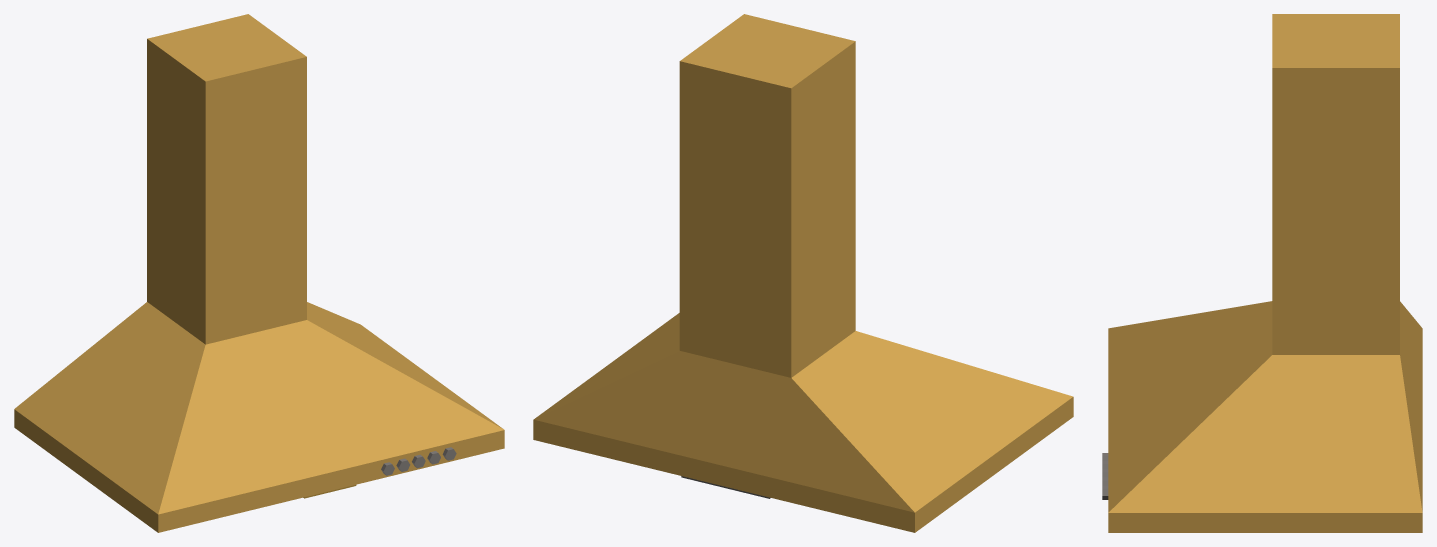
The model's file is kitchen_hood_01_D.gltf.
3 renders of one model, left to right at view 1: azimuth 30°, elevation 25°; view 2: azimuth 150°, elevation 25°; view 3: azimuth 270°, elevation 25°, orthographic. The views are drawn at different scales.
Visible parts, largest first — view 1: kitchen_hood_01_D; view 2: kitchen_hood_01_D; view 3: kitchen_hood_01_D.
Boxes of the visible parts, x1=… form: kitchen_hood_01_D: x1=14, y1=14, x2=504, y2=532; kitchen_hood_01_D: x1=533, y1=14, x2=1073, y2=532; kitchen_hood_01_D: x1=1108, y1=14, x2=1422, y2=532.
Size of the model in its own units: 0.8323 by 0.8482 by 0.6102.
Materials: 1 (1 with a texture image).
